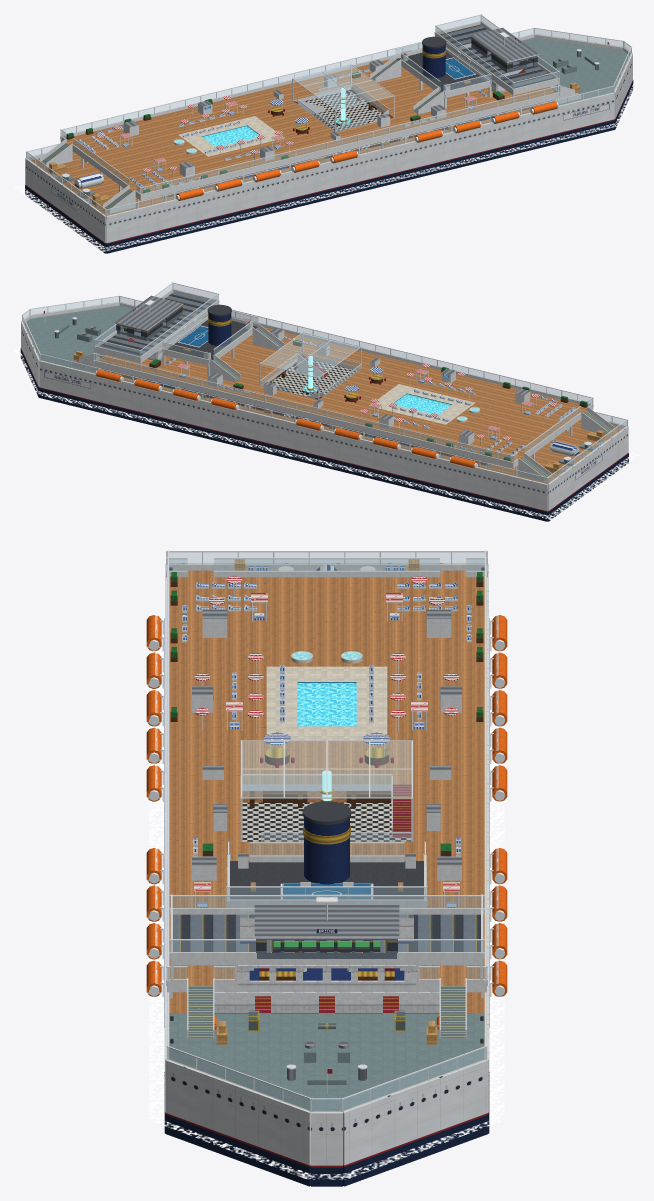
The model's file is cruise_optimized.glb.
3 views of the same model, one above another, from view 1: azimuth 30°, elevation 25°; view 2: azimuth 150°, elevation 25°; view 3: azimuth 270°, elevation 25° (orthographic). The views are drawn at different scales.
Visible parts, largest first — view 1: teak, hull_white, glass, white_paint, hull_navy, rail_chrome, deck_steel, foam, coping, wall_bridge, lifeboat, steel (+15 smaller); view 2: teak, hull_white, glass, white_paint, hull_navy, rail_chrome, deck_steel, foam, coping, wall_bridge, lifeboat, steel (+15 smaller); view 3: teak, glass, deck_steel, hull_white, white_paint, rail_chrome, foam, lifeboat, wall_bridge, wall_white, hull_navy, steel (+18 smaller).
Boxes of the visible parts, x1,y1,x2,y2 form: teak: (31,46,555,215); hull_white: (25,34,632,243); glass: (26,15,631,215); white_paint: (28,21,630,219); hull_navy: (25,80,633,253); rail_chrome: (26,14,631,216); deck_steel: (57,37,629,197); foam: (14,77,639,251); coping: (26,21,631,216); wall_bridge: (440,24,554,88); lifeboat: (177,101,557,200); steel: (62,27,598,194); teak: (98,314,622,483); hull_white: (21,302,628,511); glass: (22,283,627,483); white_paint: (23,289,625,487); hull_navy: (20,348,628,521); rail_chrome: (22,282,627,484); deck_steel: (24,305,596,465); foam: (14,347,638,519); coping: (22,289,627,484); wall_bridge: (99,292,213,356); lifeboat: (96,369,476,468); steel: (55,295,591,462); teak: (169,570,484,1012); glass: (166,552,487,1111); deck_steel: (169,1013,484,1111); hull_white: (165,563,488,1165); white_paint: (166,565,487,1038); rail_chrome: (160,550,493,1111); foam: (149,617,504,1179); lifeboat: (146,615,507,1029); wall_bridge: (173,914,480,958); wall_white: (214,924,439,1013); hull_navy: (164,618,489,1186); steel: (192,610,461,1080).
Size of what is drawn, in the model's own units: 7490 by 1148 by 2028.
Materials: 59 (51 with a texture image).
